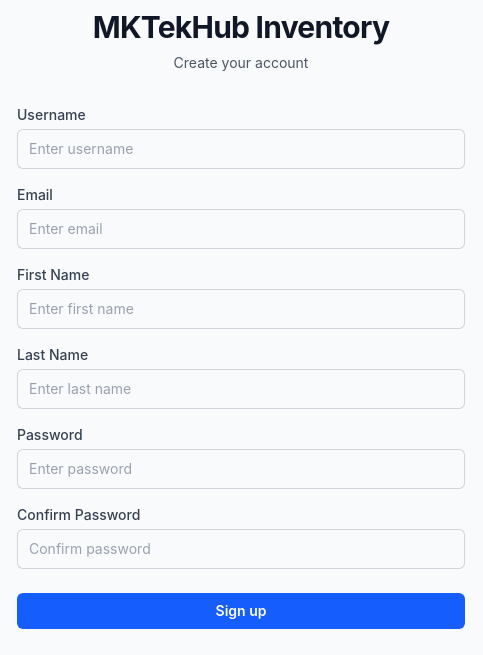
Test: SignupPage › Form Validation - Password Mismatch › should show error when passwords do not match
Type "newuser" into the field with placeholder "Enter username" at (241, 149), box 17,129 -> 465,169
Type "new@example.com" into the field with placeholder "Enter email" at (241, 229), box 17,209 -> 465,249
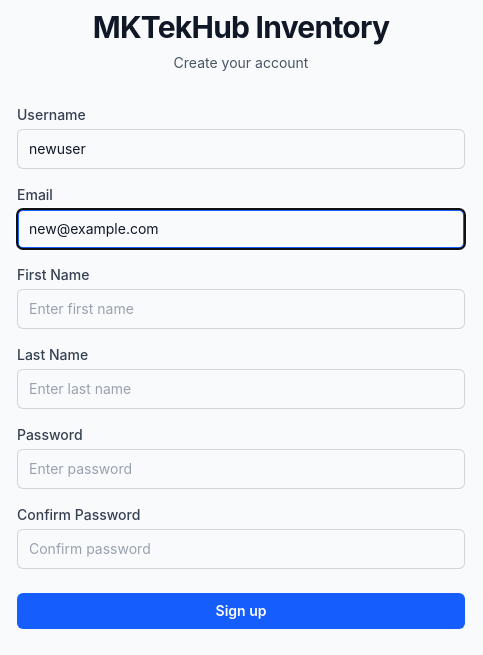
Type "Jane" into the field with placeholder "Enter first name" at (241, 309), box 17,289 -> 465,329
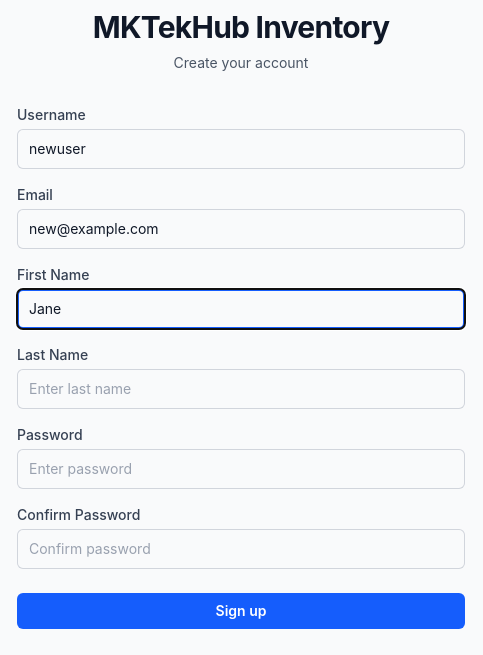
Type "Smith" into the field with placeholder "Enter last name" at (241, 389), box 17,369 -> 465,409
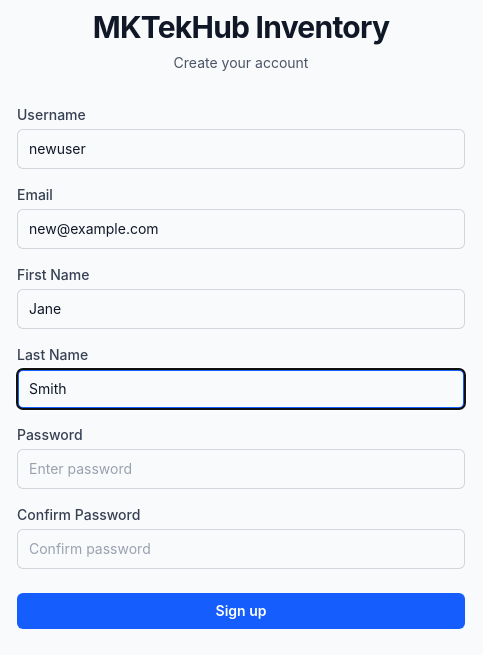
Type "password123" into the password field with placeholder "Enter password" at (241, 469), box 17,449 -> 465,489
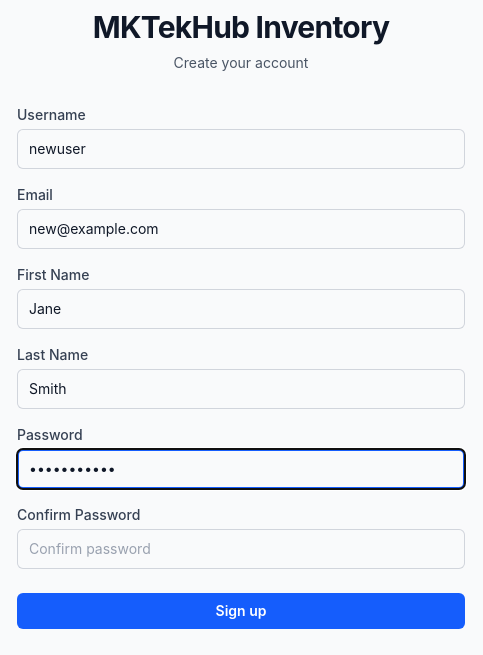
Type "password456" into the password field with placeholder "Confirm Password" at (241, 549), box 17,529 -> 465,569
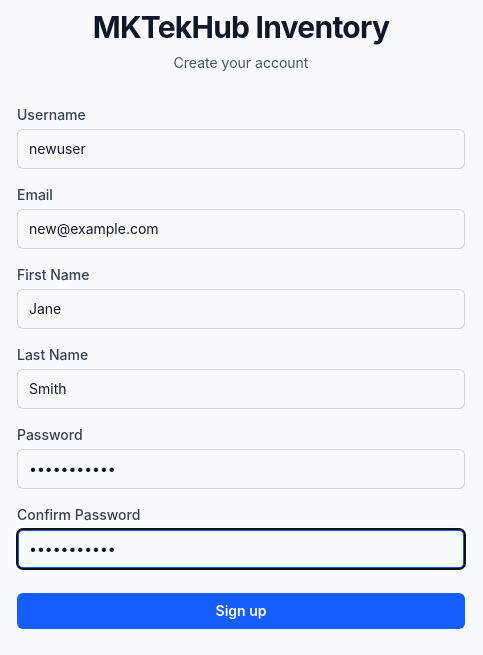
Click the button "Sign up" at (241, 611), box 17,593 -> 465,629
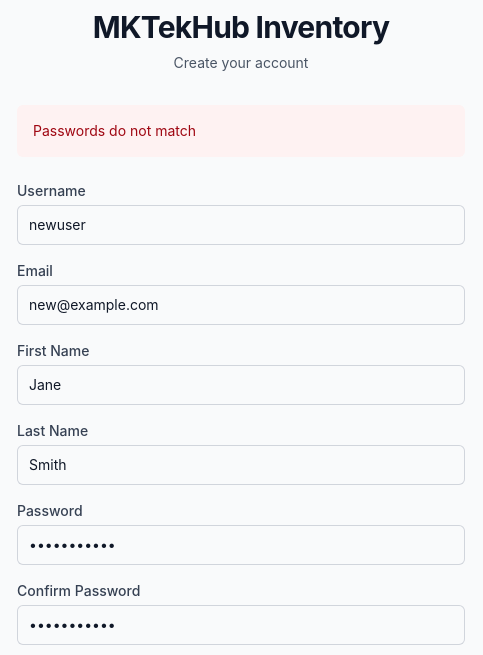
Result: the text "Passwords do not match" is shown at 33,122 -> 196,139
